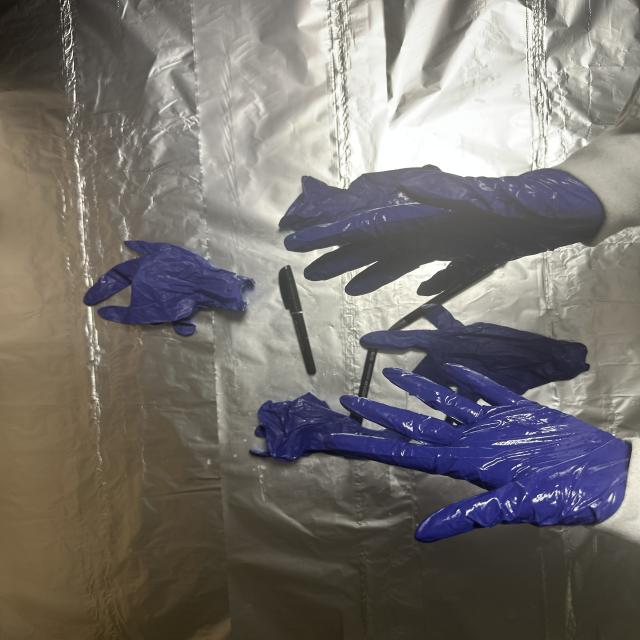gloves_contaminated: (325, 364, 631, 542), (285, 168, 604, 296)
